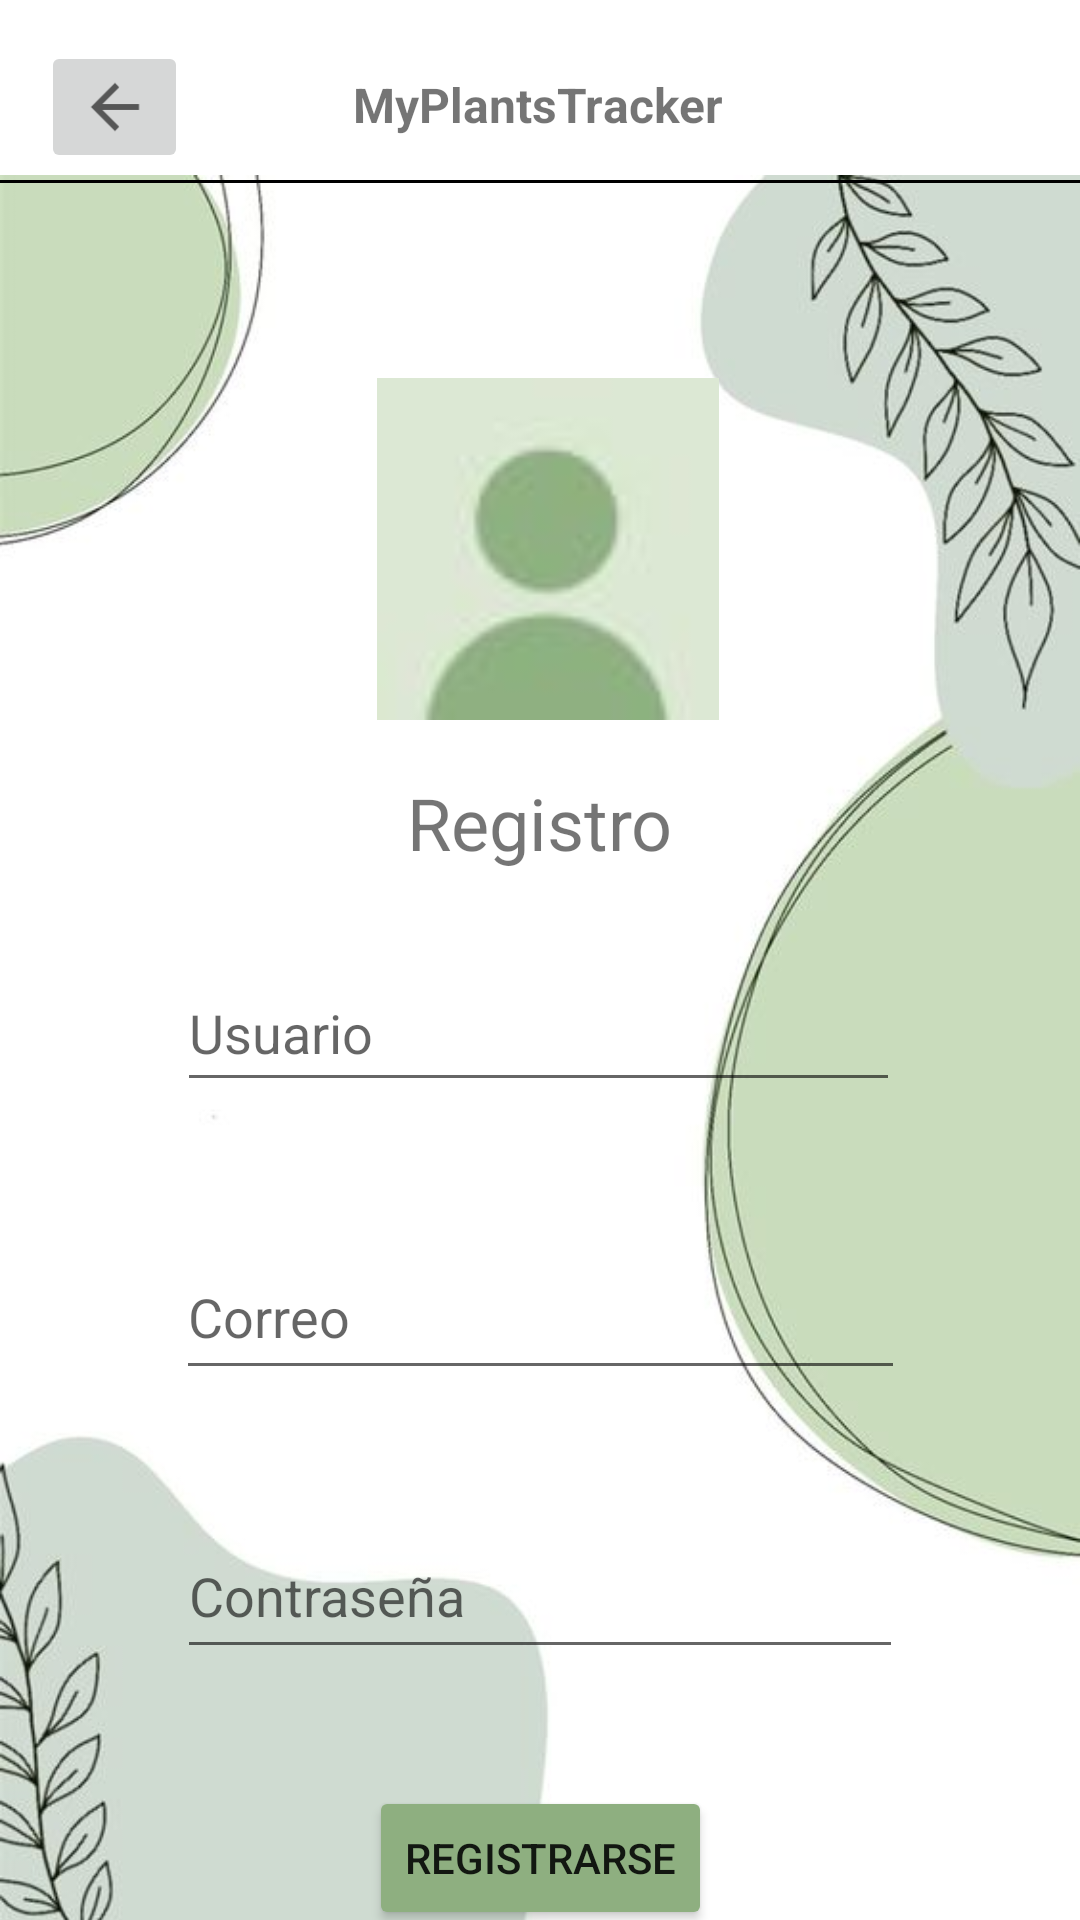

Icon bounding boxes for this 1080x1920 phone screenshot, format (x1, y1, x2, y2):
perfil: (377, 360, 719, 720)
